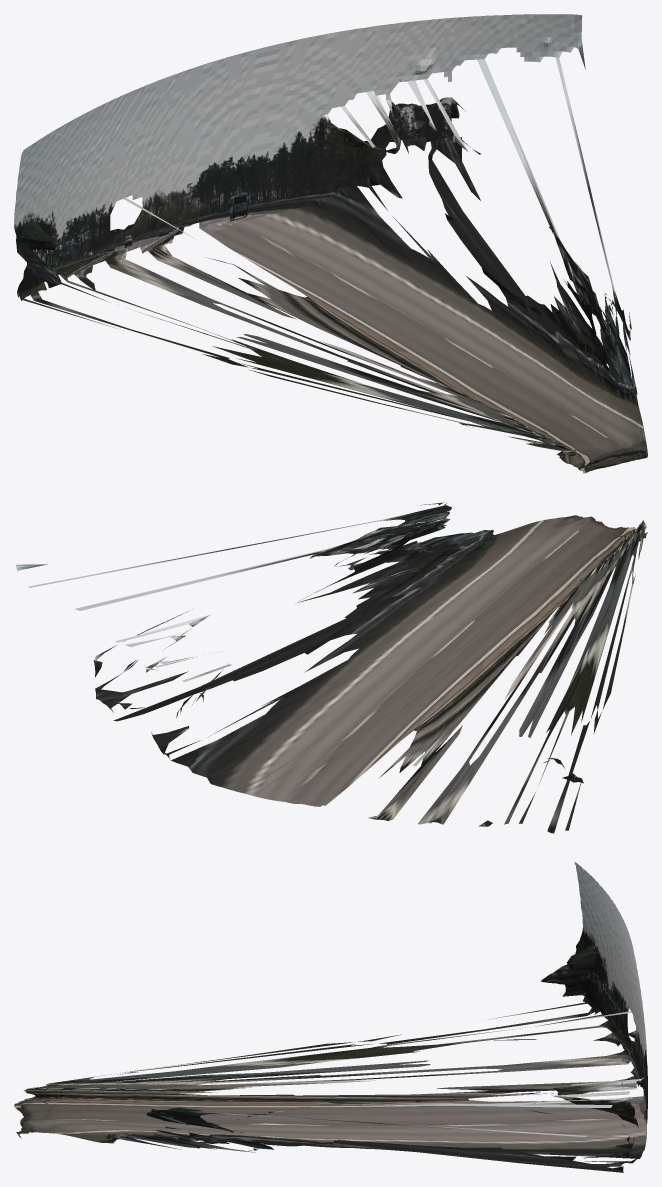
3 renders of one model, top to bottom at view 1: azimuth 30°, elevation 25°; view 2: azimuth 150°, elevation 25°; view 3: azimuth 270°, elevation 25°, orthographic. The views are drawn at different scales.
Parts seen in each view (by area): view 1: defaultobject; view 2: defaultobject; view 3: defaultobject.
Boxes of the visible parts, bbox=[...] form: defaultobject: bbox=[14, 14, 647, 473]; defaultobject: bbox=[16, 502, 647, 833]; defaultobject: bbox=[14, 862, 647, 1172].
Size of the model in its own units: 40.91 by 12.36 by 44.54.
Materials: 1 (1 with a texture image).
